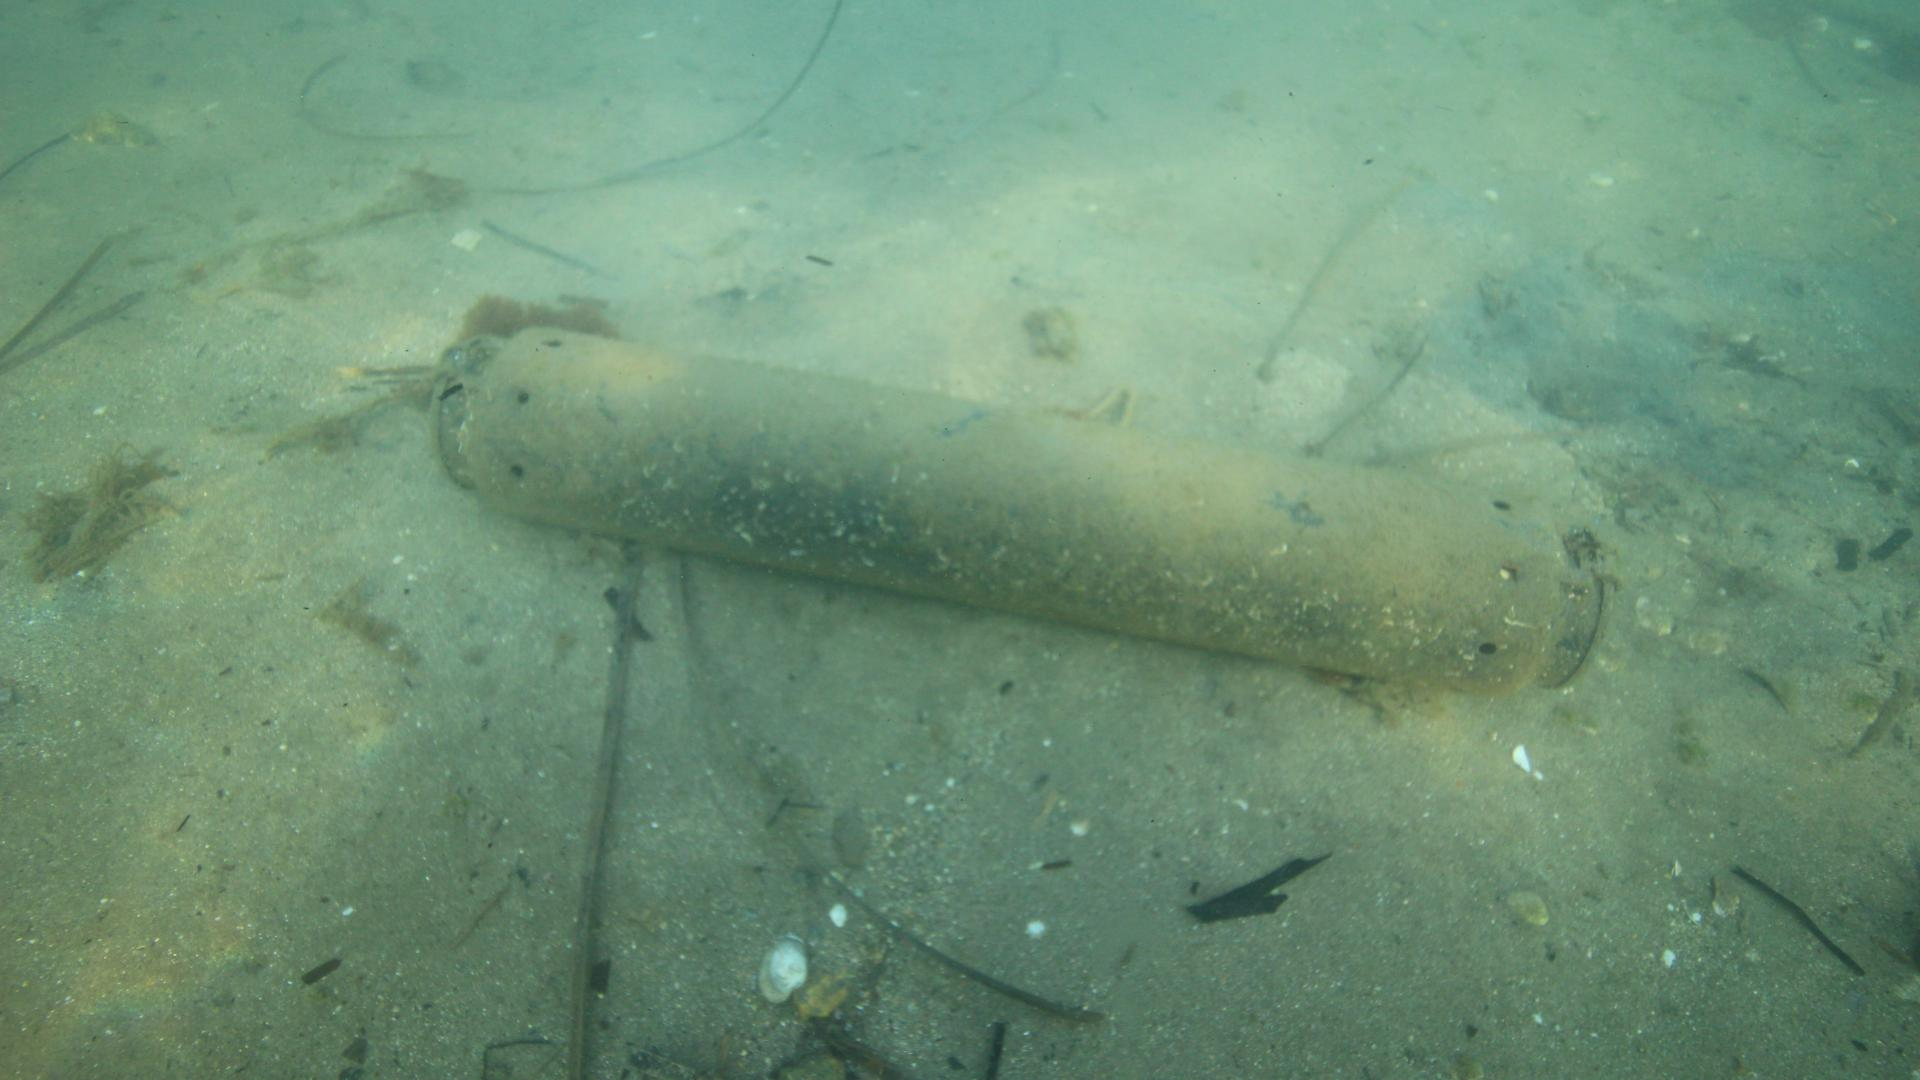eel fish trap: (426, 323, 1619, 695)
